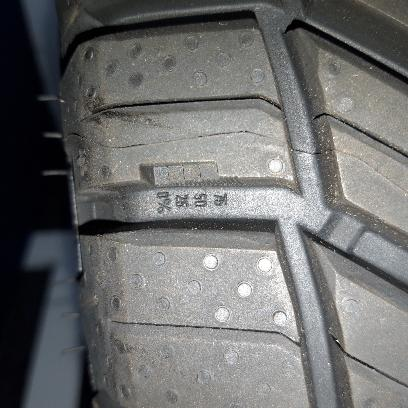temoin:100: (137, 158, 246, 190)
